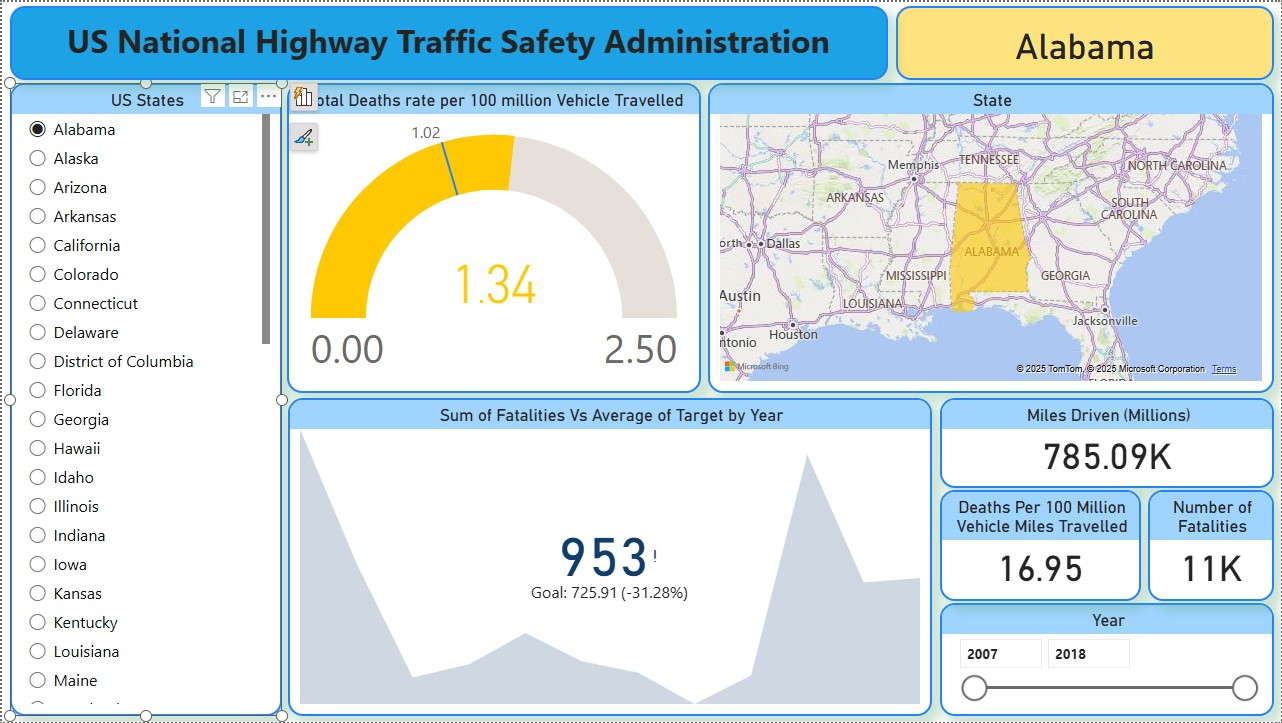

The dashboard page shown, as its layout file describes it:
{"tool":"powerbi","page":{"name":"Dashboard","canvas":[1280,720],"ordinal":0},"visuals":[{"type":"slicer","title":"US States","fields":{"Values":["PA - Driving Safety.State"]},"box":[8.1,80.6,272.2,633.1],"z":0},{"type":"card","title":"Selected US State","fields":{"Values":["Min(PA - Driving Safety.State)"]},"box":[894,4,378,73.6],"z":1000},{"type":"gauge","title":"Total Deaths rate per 100 million Vehicle Travelled","fields":{"Y":["Sum(PA - Driving Safety.2018 Deaths per 100 million vehicle miles traveled)"]},"box":[285.3,80.8,414,310],"z":2000},{"type":"filledMap","fields":{"Category":["PA - Driving Safety.State"]},"box":[706.3,80.8,566,310],"z":3000},{"type":"kpi","title":"Sum of Fatalities Vs Average of Target by Year","fields":{"Indicator":["Sum(PA - Driving Safety.Fatalities)"],"TrendLine":["PA - Driving Safety.Year"],"Goal":["Avg(PA - Driving Safety.Target)"]},"box":[285.7,395.8,643.9,317.9],"z":4000},{"type":"card","title":"Miles Driven (Millions)","fields":{"Values":["Sum(PA - Driving Safety.Miles (millions))"]},"box":[937.6,395.9,334.6,89.7],"z":5000},{"type":"slicer","title":"Year","fields":{"Values":["PA - Driving Safety.Year"]},"box":[937.6,600.9,334,112.8],"z":6000},{"type":"textbox","box":[8.1,4,877.9,73.6],"z":7000},{"type":"card","title":"Deaths Per 100 Million Vehicle Miles Travelled","fields":{"Values":["Sum(PA - Driving Safety.Deaths per 100 million vehicle miles traveled)"]},"box":[937.6,488.2,201.6,110.9],"z":8000},{"type":"card","title":"Number of Fatalities","fields":{"Values":["Sum(PA - Driving Safety.Fatalities)"]},"box":[1146.3,488.2,126,110.9],"z":9000}]}

Visuals, with their boxes in screenshot pixels (x1, y1, x2, y2), scaled from the page's 1280x720 canvas onto the 1282x723 screenshot:
"US States" slicer: (8,81,281,717)
"Selected US State" card: (895,4,1274,78)
"Total Deaths rate per 100 million Vehicle Travelled" gauge: (286,81,700,392)
filledMap - PA - Driving Safety.State: (707,81,1274,392)
"Sum of Fatalities Vs Average of Target by Year" kpi: (286,397,931,717)
"Miles Driven (Millions)" card: (939,398,1274,488)
"Year" slicer: (939,603,1274,717)
textbox: (8,4,887,78)
"Deaths Per 100 Million Vehicle Miles Travelled" card: (939,490,1141,602)
"Number of Fatalities" card: (1148,490,1274,602)
